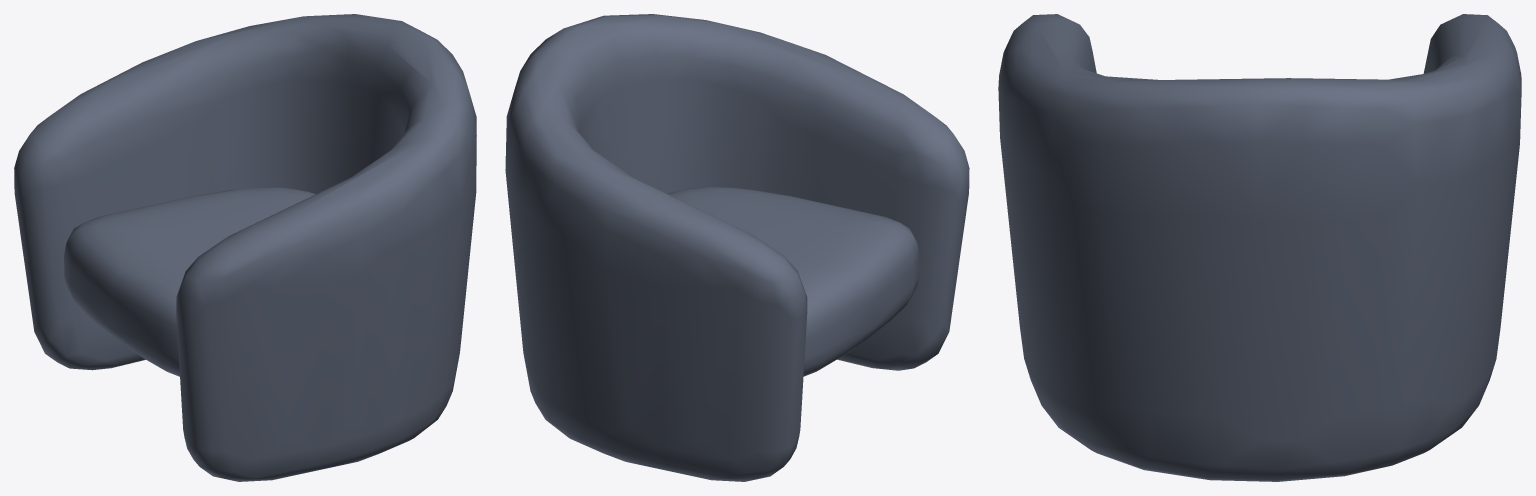
Rendered from armchair_05_dark_gray.fbx.
The picture shows the model from 3 angles, left to right: view 1: azimuth 30°, elevation 25°; view 2: azimuth 150°, elevation 25°; view 3: azimuth 270°, elevation 25°; orthographic projection. The views are drawn at different scales.
Visible parts, largest first — view 1: armchair_05_dark_gray; view 2: armchair_05_dark_gray; view 3: armchair_05_dark_gray.
Part boxes in pixels (box(x1,y1,x2,y2)): armchair_05_dark_gray: box(14, 14, 476, 481); armchair_05_dark_gray: box(505, 14, 969, 481); armchair_05_dark_gray: box(998, 14, 1521, 481).
Bounding box in the file's own units: 113 × 103 × 120.
Materials: 1 (1 with a texture image).
